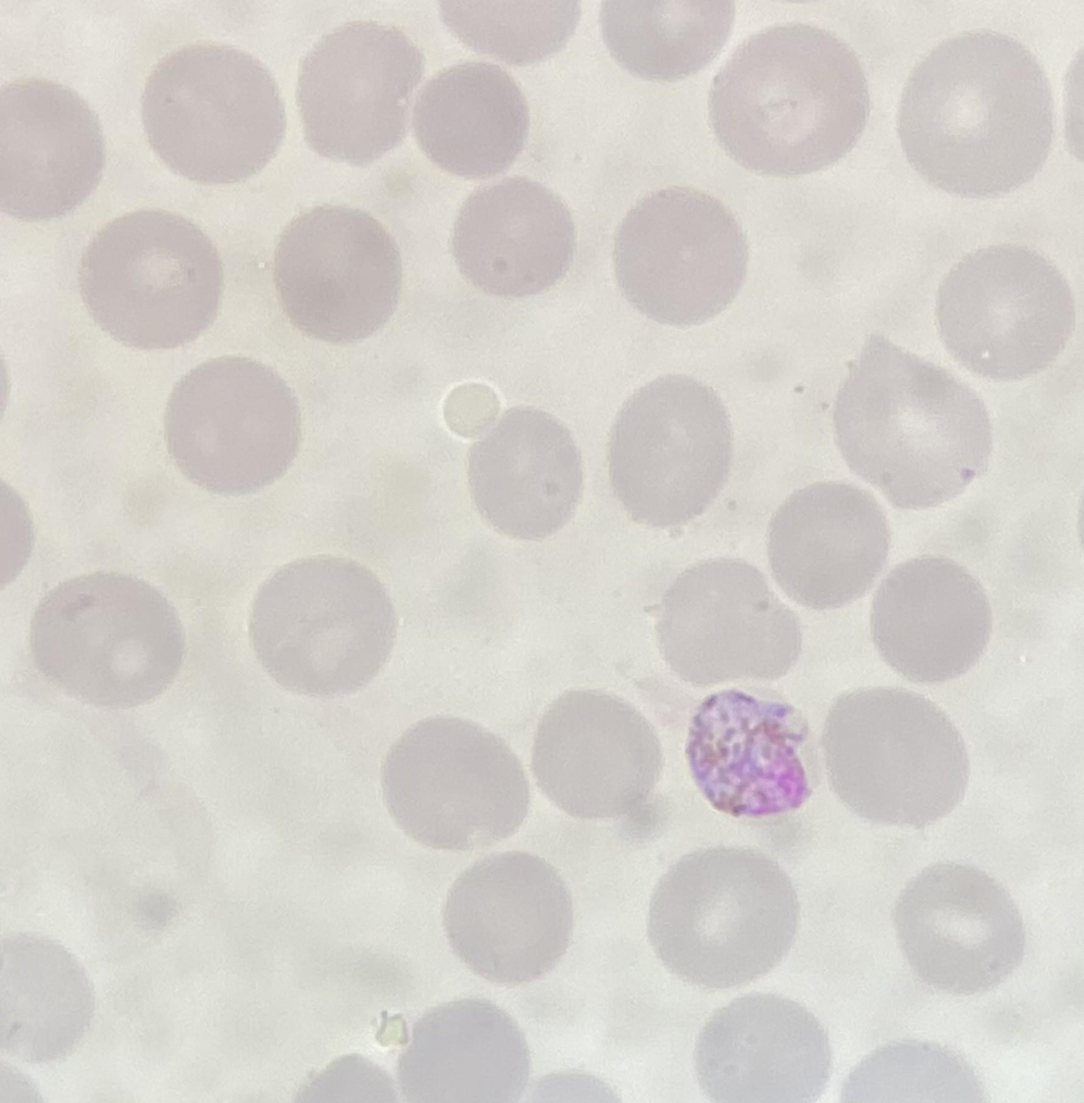Infected: (680, 689, 825, 818)
Uninfected: (832, 341, 990, 505), (896, 30, 1052, 195), (706, 24, 871, 177), (646, 846, 801, 986), (825, 689, 973, 833), (247, 556, 396, 698), (27, 572, 180, 709), (141, 43, 286, 183), (77, 210, 222, 346), (606, 377, 738, 526), (380, 717, 528, 849), (161, 356, 302, 494), (654, 560, 801, 690), (612, 187, 750, 323), (296, 24, 428, 164), (933, 245, 1071, 376), (271, 205, 405, 339), (439, 851, 572, 982), (528, 691, 661, 821), (871, 549, 997, 686), (891, 860, 1023, 990), (765, 482, 888, 610), (448, 178, 574, 299), (464, 411, 581, 538), (692, 994, 829, 1102), (0, 79, 102, 216), (411, 62, 530, 177), (401, 1003, 525, 1100), (4, 932, 93, 1058), (603, 0, 734, 77)
